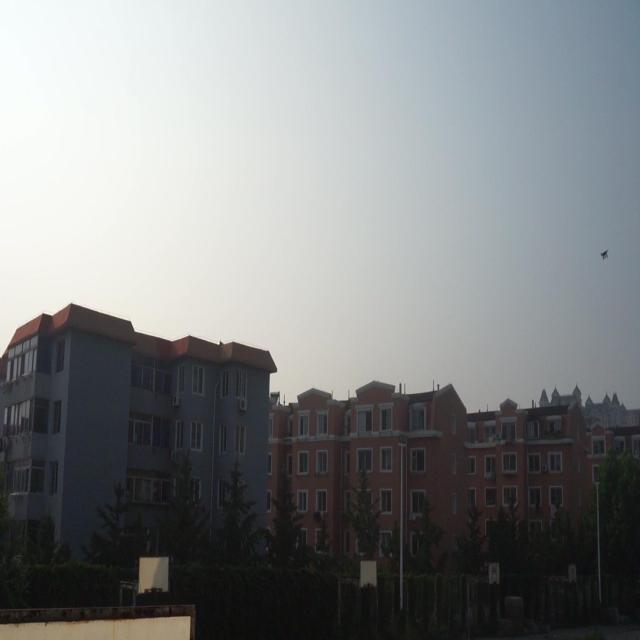drone: (598, 244, 610, 262)
